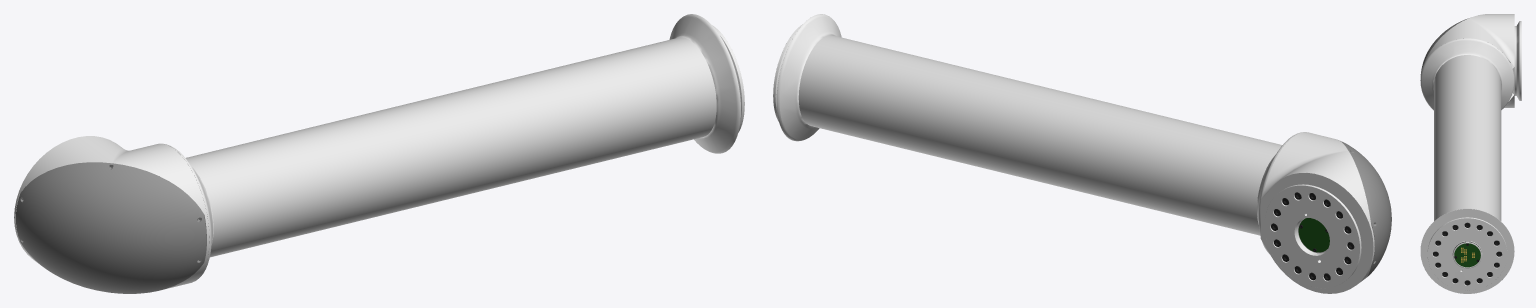
The picture shows the model from 3 angles, left to right: view 1: azimuth 30°, elevation 25°; view 2: azimuth 150°, elevation 25°; view 3: azimuth 270°, elevation 25°; orthographic projection. The views are drawn at different scales.
Visible parts, largest first — view 1: L148.001; view 2: L148.001; view 3: L148.001.
Part boxes in pixels (box(x1,y1,x2,y2)): L148.001: box(14, 14, 744, 293); L148.001: box(773, 14, 1391, 293); L148.001: box(1420, 14, 1521, 293).
Size of the model in its own units: 0.7986 by 0.148 by 0.1589.
